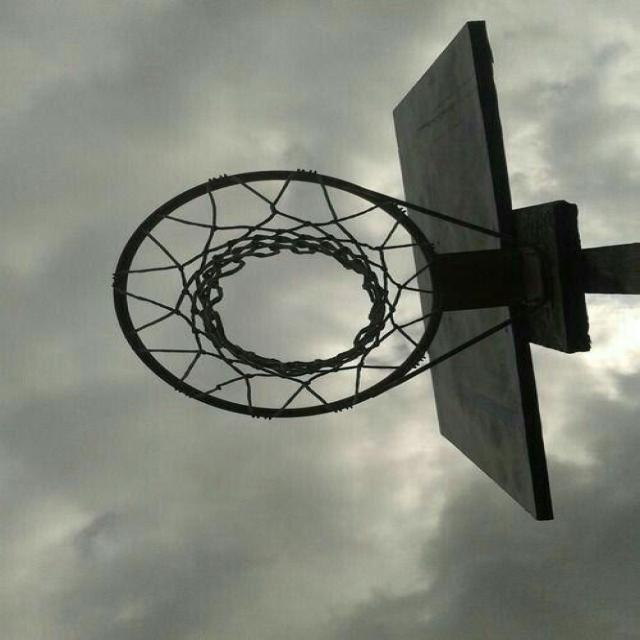hoop: (74, 146, 496, 440)
